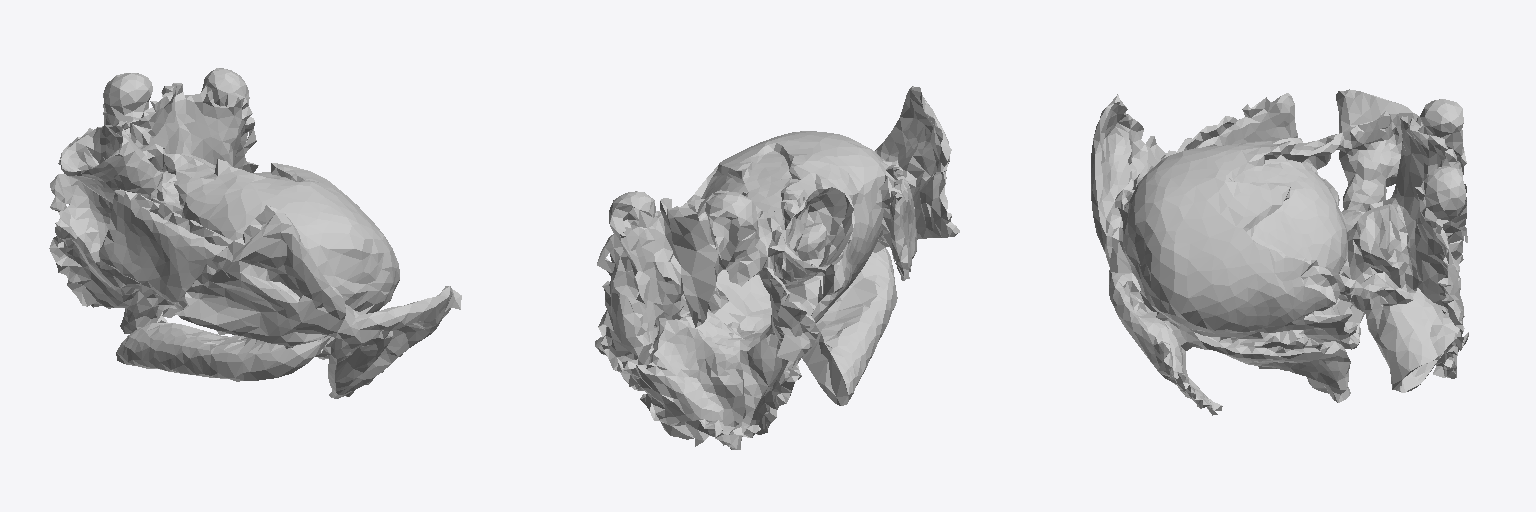
The model's file is reimu_low_smooth.obj.
3 views of the same model, side by side, from view 1: azimuth 30°, elevation 25°; view 2: azimuth 150°, elevation 25°; view 3: azimuth 270°, elevation 25° (orthographic).
Visible parts, largest first — view 1: reimu_low; view 2: reimu_low; view 3: reimu_low.
Part boxes in pixels (x1,y1,x2,y2): reimu_low: (49, 68, 461, 398); reimu_low: (595, 86, 959, 449); reimu_low: (1091, 89, 1468, 415).
Size of the model in its own units: 24.36 by 20.67 by 26.83.